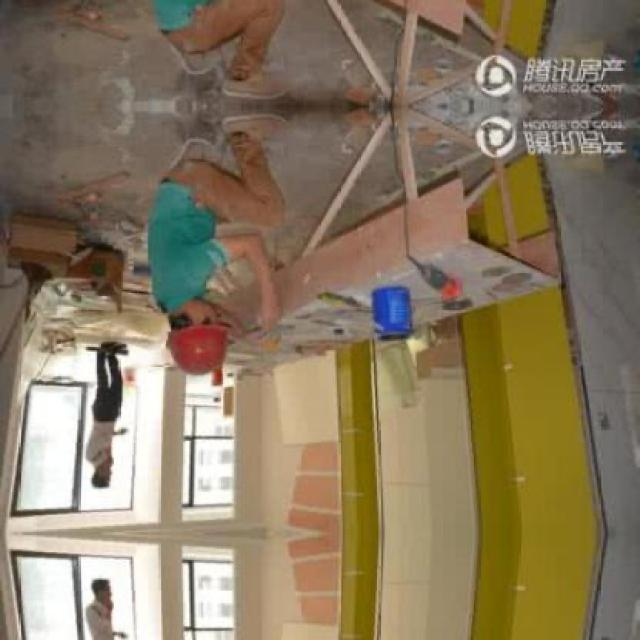con casco: (139, 263, 241, 387)
